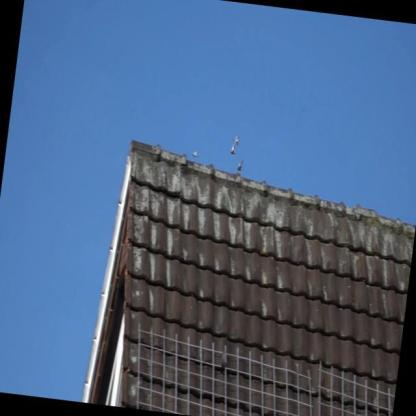bird: (235, 158, 245, 174), (228, 142, 239, 155), (232, 133, 241, 148), (191, 149, 201, 159)
